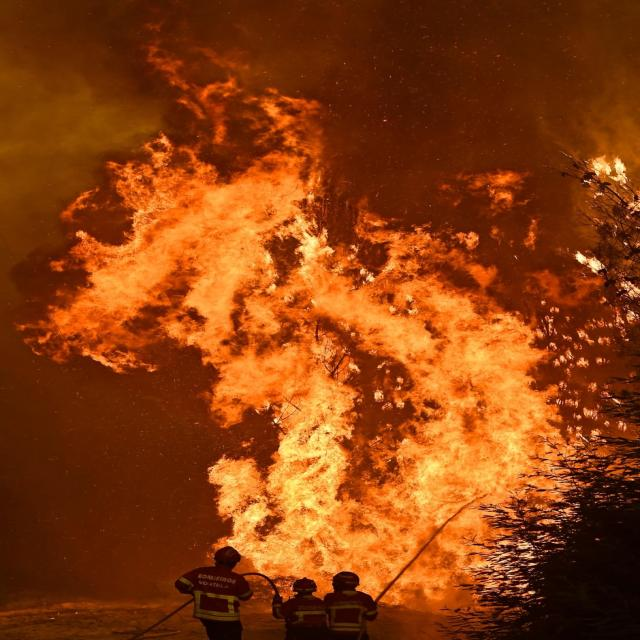Fire: (86, 20, 630, 640)
